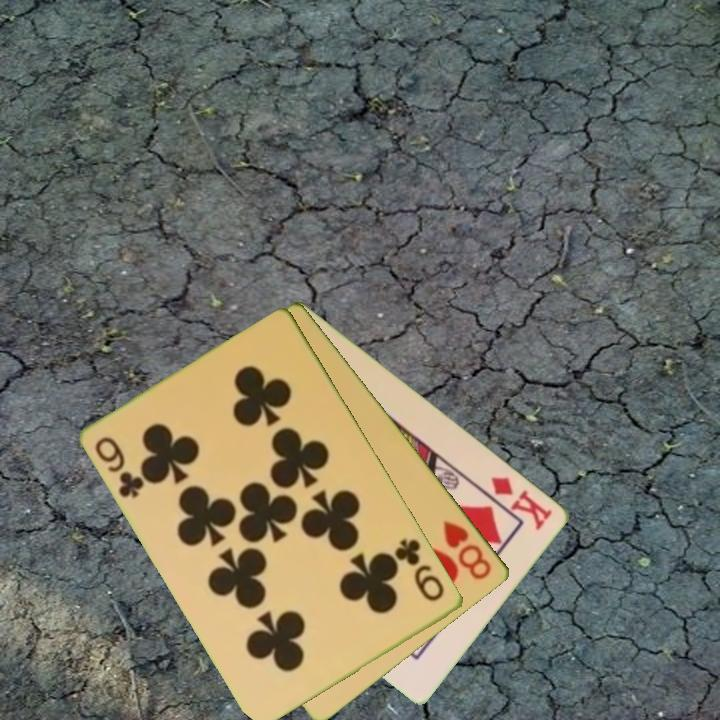8h: (440, 517, 496, 583)
9c: (391, 535, 448, 605), (92, 433, 148, 501)
Kd: (487, 473, 556, 533)
